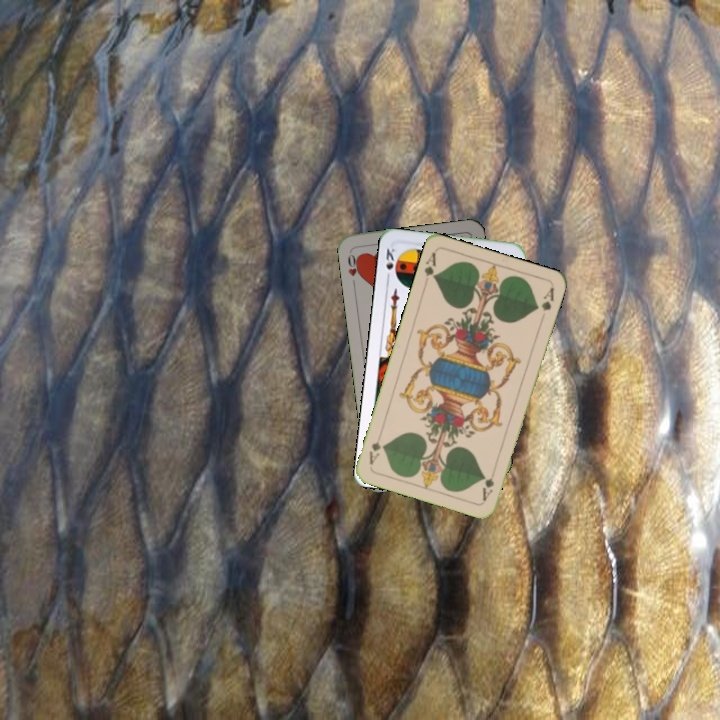GA: (478, 464, 498, 504), (420, 248, 439, 282)
HO: (343, 250, 363, 289)
SK: (382, 244, 401, 283)
